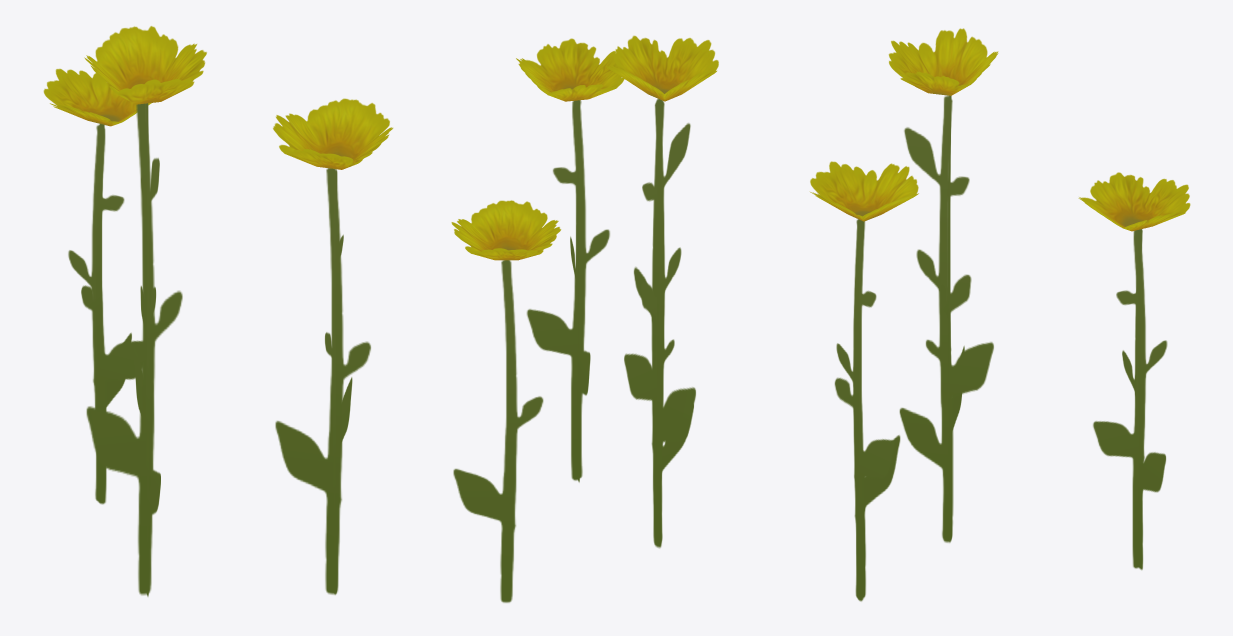
The model's file is flower05.glb.
3 renders of one model, left to right at view 1: azimuth 30°, elevation 25°; view 2: azimuth 150°, elevation 25°; view 3: azimuth 270°, elevation 25°, orthographic. The views are drawn at different scales.
Visible parts, largest first — view 1: Flower05; view 2: Flower05; view 3: Flower05.
Boxes of the visible parts, x1,y1,x2,y2 form: Flower05: (43,26,393,596); Flower05: (451,35,718,602); Flower05: (810,28,1190,601).
Size of the model in its own units: 0.1937 by 0.3439 by 0.2751.
1 material, 1 textured.
